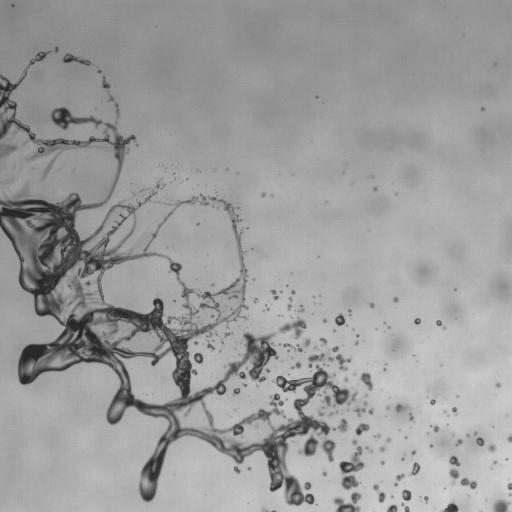droplet: (332, 491, 361, 511), (359, 372, 373, 390), (492, 499, 511, 511), (440, 499, 458, 511), (354, 422, 369, 436), (448, 468, 459, 485), (334, 313, 348, 326), (448, 455, 460, 466), (193, 352, 203, 365), (7, 90, 18, 101), (52, 126, 63, 137), (93, 126, 104, 137), (61, 128, 72, 139), (36, 129, 47, 140), (3, 131, 14, 142), (26, 141, 37, 152), (63, 145, 74, 156), (38, 154, 49, 165), (4, 189, 15, 200), (156, 189, 167, 200), (73, 210, 84, 221), (73, 221, 84, 232), (421, 316, 432, 327), (232, 329, 243, 340), (40, 333, 51, 344), (269, 337, 280, 348), (185, 342, 196, 353), (297, 352, 308, 363), (265, 357, 276, 368), (324, 362, 335, 373), (302, 367, 313, 378), (286, 369, 297, 380), (228, 374, 239, 385), (109, 378, 120, 389), (345, 380, 356, 391), (188, 382, 199, 393), (294, 387, 305, 398), (285, 390, 296, 401), (310, 394, 321, 405), (302, 404, 313, 415), (126, 405, 137, 416), (359, 412, 370, 423), (326, 416, 337, 427), (157, 417, 168, 428), (347, 418, 358, 429), (295, 433, 306, 444), (177, 434, 188, 445), (496, 438, 507, 449), (167, 440, 178, 451), (255, 450, 266, 461), (333, 451, 344, 462), (283, 452, 294, 463), (223, 455, 234, 466), (159, 463, 170, 474), (285, 465, 296, 476), (158, 466, 169, 477), (333, 469, 344, 480), (399, 478, 410, 489), (498, 489, 509, 500), (392, 494, 403, 505), (289, 361, 301, 370), (402, 489, 411, 501), (294, 304, 305, 313), (429, 423, 439, 432), (386, 504, 398, 511), (318, 337, 327, 346), (487, 443, 496, 452), (56, 49, 65, 58), (69, 108, 78, 117), (75, 145, 84, 154), (122, 153, 131, 162), (278, 294, 287, 303), (215, 323, 224, 332), (300, 328, 309, 337), (251, 329, 260, 338), (196, 333, 205, 342), (310, 335, 319, 344), (33, 336, 42, 345), (238, 344, 247, 353), (317, 344, 326, 353), (304, 346, 313, 355), (200, 347, 209, 356), (12, 349, 21, 358), (267, 371, 276, 380), (357, 382, 366, 391), (278, 390, 287, 399), (353, 398, 362, 407), (399, 409, 408, 418), (291, 412, 300, 421), (319, 414, 328, 423), (225, 418, 234, 427), (213, 420, 222, 429), (326, 430, 335, 439), (391, 432, 400, 441), (314, 445, 323, 454), (162, 454, 171, 463), (161, 457, 170, 466), (156, 473, 165, 482), (342, 495, 351, 504), (382, 498, 391, 507), (420, 504, 431, 511), (476, 437, 484, 446), (289, 505, 300, 511), (483, 505, 494, 511), (232, 388, 240, 396), (455, 438, 463, 446), (451, 407, 458, 415), (373, 433, 381, 440), (0, 190, 5, 201), (29, 51, 36, 58), (56, 101, 63, 108), (81, 111, 88, 118), (93, 112, 100, 119), (14, 113, 21, 120), (20, 118, 27, 125), (87, 121, 94, 128), (67, 122, 74, 129), (8, 123, 15, 130), (98, 123, 105, 130), (21, 131, 28, 138), (9, 150, 16, 157), (35, 168, 42, 175), (106, 175, 113, 182), (80, 197, 87, 204), (104, 201, 111, 208), (78, 233, 85, 240), (26, 292, 33, 299), (291, 300, 298, 307), (256, 301, 263, 308), (239, 308, 246, 315), (44, 313, 51, 320), (299, 313, 306, 320), (278, 319, 285, 326), (228, 320, 235, 327), (287, 328, 294, 335), (296, 337, 303, 344), (289, 338, 296, 345), (186, 339, 193, 346), (326, 341, 333, 348), (187, 354, 194, 361), (234, 355, 241, 362), (331, 359, 338, 366), (91, 361, 98, 368), (190, 361, 197, 368), (39, 371, 46, 378), (217, 372, 224, 379), (12, 375, 19, 382), (244, 375, 251, 382), (209, 379, 216, 386), (24, 382, 31, 389), (275, 386, 282, 393), (225, 387, 232, 394), (109, 388, 116, 395), (202, 394, 209, 401), (389, 400, 396, 407), (349, 401, 356, 408), (339, 402, 346, 409), (336, 403, 343, 410), (264, 404, 271, 411), (251, 406, 258, 413), (242, 410, 249, 417), (312, 413, 319, 420), (144, 414, 151, 421), (233, 416, 240, 423), (116, 419, 123, 426), (302, 433, 309, 440), (285, 436, 292, 443), (377, 438, 384, 445), (483, 439, 490, 446), (203, 441, 210, 448), (331, 449, 338, 456), (489, 451, 496, 458), (378, 452, 385, 459), (305, 454, 312, 461), (358, 454, 365, 461), (412, 454, 419, 461), (243, 455, 250, 462), (141, 456, 148, 463), (497, 456, 504, 463), (229, 459, 236, 466), (262, 465, 269, 472), (264, 477, 271, 484), (297, 479, 304, 486), (278, 485, 285, 492), (348, 486, 355, 493), (300, 488, 307, 495), (372, 491, 379, 498), (153, 492, 160, 499), (135, 494, 142, 501), (355, 499, 362, 506), (300, 500, 307, 507), (313, 342, 319, 350), (395, 506, 404, 511), (392, 296, 399, 302), (367, 302, 374, 308), (322, 468, 327, 476), (414, 318, 420, 324), (495, 382, 501, 388), (368, 408, 374, 414), (430, 398, 435, 405), (411, 449, 416, 456), (424, 496, 429, 503), (260, 192, 266, 197), (253, 297, 258, 303), (351, 370, 356, 376), (241, 382, 247, 387), (456, 507, 463, 511), (480, 106, 485, 111), (322, 318, 327, 323), (354, 340, 359, 345), (380, 460, 385, 465), (72, 51, 77, 56), (79, 54, 84, 59), (41, 57, 46, 62), (70, 59, 75, 64), (34, 60, 39, 65), (80, 63, 85, 68), (26, 68, 31, 73), (2, 72, 7, 77), (97, 72, 102, 77), (104, 77, 109, 82), (10, 79, 15, 84), (97, 81, 102, 86), (15, 85, 20, 90), (107, 86, 112, 91), (101, 87, 106, 92), (113, 96, 118, 101), (109, 100, 114, 105), (15, 105, 20, 110), (48, 106, 53, 111), (118, 109, 123, 114), (111, 110, 116, 115), (101, 117, 106, 122), (109, 119, 114, 124), (29, 127, 34, 132), (99, 133, 104, 138), (134, 133, 139, 138), (34, 134, 39, 139), (122, 134, 127, 139), (48, 135, 53, 140), (74, 135, 79, 140), (84, 135, 89, 140), (27, 139, 32, 144), (128, 139, 133, 144), (101, 140, 106, 145), (16, 141, 21, 146), (51, 150, 56, 155), (121, 162, 126, 167), (51, 163, 56, 168), (48, 169, 53, 174), (111, 169, 116, 174), (119, 170, 124, 175), (116, 178, 121, 183), (174, 178, 179, 183), (113, 186, 118, 191), (134, 187, 139, 192), (257, 188, 262, 193), (265, 190, 270, 195), (193, 191, 198, 196), (202, 191, 207, 196), (210, 191, 215, 196), (186, 194, 191, 199), (264, 194, 269, 199), (150, 195, 155, 200), (0, 196, 5, 201), (92, 198, 97, 203), (225, 198, 230, 203), (231, 202, 236, 207), (233, 208, 238, 213), (235, 221, 240, 226), (93, 224, 98, 229), (239, 234, 244, 239), (5, 238, 10, 243), (239, 239, 244, 244), (240, 245, 245, 250), (9, 246, 14, 251), (11, 250, 16, 255), (14, 256, 19, 261), (242, 258, 247, 263), (14, 271, 19, 276), (244, 281, 249, 286), (15, 282, 20, 287), (287, 285, 292, 290), (244, 286, 249, 291), (243, 292, 248, 297), (390, 292, 395, 297), (268, 293, 273, 298), (314, 296, 319, 301), (368, 297, 373, 302), (284, 298, 289, 303), (388, 298, 393, 303), (243, 300, 248, 305), (394, 301, 399, 306), (29, 304, 34, 309), (282, 304, 287, 309), (333, 311, 338, 316), (33, 313, 38, 318), (343, 315, 348, 320), (292, 316, 297, 321), (221, 320, 226, 325), (304, 320, 309, 325), (318, 320, 323, 325), (332, 322, 337, 327), (60, 325, 65, 330), (213, 325, 218, 330), (354, 328, 359, 333), (351, 330, 356, 335), (210, 334, 215, 339), (316, 340, 321, 345), (308, 342, 313, 347), (351, 344, 356, 349), (213, 348, 218, 353), (315, 350, 320, 355), (332, 351, 337, 356), (342, 354, 347, 359), (269, 355, 274, 360), (80, 360, 85, 365), (290, 360, 295, 365), (311, 360, 316, 365), (342, 361, 347, 366), (71, 363, 76, 368), (318, 363, 323, 368), (377, 365, 382, 370), (66, 366, 71, 371), (322, 366, 327, 371), (312, 367, 317, 372), (363, 368, 368, 373), (61, 369, 66, 374), (53, 370, 58, 375), (276, 370, 281, 375), (112, 372, 117, 377), (189, 372, 194, 377), (308, 372, 313, 377), (356, 372, 361, 377), (347, 374, 352, 379), (239, 377, 244, 382), (369, 377, 374, 382), (253, 378, 258, 383), (359, 380, 364, 385), (223, 381, 228, 386), (490, 382, 495, 387), (338, 384, 343, 389), (239, 385, 244, 390), (354, 394, 359, 399), (428, 394, 433, 399), (364, 396, 369, 401), (266, 397, 271, 402), (308, 397, 313, 402), (425, 398, 430, 403), (399, 399, 404, 404), (383, 400, 388, 405), (358, 403, 363, 408), (276, 405, 281, 410), (328, 406, 333, 411), (390, 406, 395, 411), (102, 408, 107, 413), (209, 409, 214, 414), (228, 409, 233, 414), (384, 409, 389, 414), (352, 411, 357, 416), (101, 413, 106, 418), (404, 414, 409, 419), (120, 415, 125, 420), (444, 417, 449, 422), (103, 419, 108, 424), (438, 425, 443, 430), (428, 427, 433, 432), (360, 430, 365, 435), (436, 430, 441, 435), (468, 430, 473, 435), (476, 432, 481, 437), (504, 432, 509, 437), (156, 433, 161, 438), (354, 434, 359, 439), (461, 435, 466, 440), (471, 435, 476, 440), (481, 435, 486, 440), (452, 437, 457, 442), (390, 438, 395, 443), (385, 442, 390, 447), (457, 443, 462, 448), (374, 446, 379, 451), (352, 447, 357, 452), (361, 448, 366, 453), (406, 449, 411, 454), (456, 456, 461, 461), (345, 457, 350, 462), (487, 460, 492, 465), (236, 463, 241, 468), (408, 463, 413, 468), (451, 463, 456, 468), (336, 467, 341, 472), (317, 469, 322, 474), (396, 469, 401, 474), (417, 469, 422, 474), (447, 475, 452, 480), (456, 476, 461, 481), (467, 476, 472, 481), (391, 477, 396, 482), (374, 479, 379, 484), (475, 479, 480, 484), (368, 482, 373, 487), (502, 483, 507, 488), (465, 484, 470, 489), (405, 485, 410, 490), (474, 485, 479, 490), (378, 487, 383, 492), (469, 488, 474, 493), (312, 493, 317, 498), (410, 493, 415, 498), (313, 497, 318, 502), (399, 497, 404, 502), (403, 500, 408, 505), (453, 500, 458, 505), (290, 503, 295, 508), (442, 503, 447, 508), (54, 46, 58, 52), (0, 105, 3, 112), (373, 186, 377, 191), (332, 328, 337, 332), (193, 341, 198, 345), (385, 405, 389, 410), (246, 466, 251, 470), (408, 507, 413, 511), (97, 69, 101, 73), (269, 193, 273, 197), (291, 290, 295, 294), (387, 325, 391, 329), (284, 397, 288, 401), (233, 408, 237, 412), (473, 431, 477, 435), (390, 494, 394, 498), (508, 441, 511, 446), (508, 456, 511, 461), (256, 508, 261, 511), (358, 508, 363, 511), (493, 62, 497, 65), (225, 167, 229, 170), (196, 168, 199, 172), (324, 200, 328, 203), (278, 290, 282, 293), (364, 393, 367, 397), (228, 415, 232, 418), (466, 433, 469, 437), (429, 444, 433, 447), (278, 314, 283, 316), (10, 0, 15, 2), (0, 203, 2, 208), (0, 227, 2, 232), (11, 4, 14, 7), (315, 95, 318, 98), (196, 222, 199, 225), (252, 278, 255, 281), (211, 283, 214, 286), (454, 288, 457, 291), (312, 295, 315, 298), (318, 294, 321, 297), (211, 314, 214, 317), (383, 321, 386, 324), (356, 334, 359, 337), (440, 363, 443, 366), (256, 384, 259, 387), (456, 395, 459, 398), (397, 428, 400, 431), (404, 436, 407, 439), (505, 457, 508, 460), (14, 3, 17, 6), (8, 4, 11, 7), (51, 47, 54, 50), (36, 49, 39, 52), (43, 49, 46, 52), (26, 60, 29, 63), (90, 60, 93, 63), (29, 64, 32, 67), (87, 64, 90, 67), (98, 66, 101, 69), (95, 67, 98, 70), (21, 79, 24, 82), (313, 92, 316, 95), (317, 93, 320, 96), (106, 95, 109, 98), (315, 98, 318, 101), (481, 103, 484, 106), (117, 105, 120, 108), (113, 106, 116, 109), (477, 106, 480, 109), (483, 109, 486, 112), (163, 163, 166, 166), (172, 168, 175, 171), (169, 171, 172, 174), (170, 176, 173, 179), (182, 176, 185, 179), (178, 178, 181, 181), (183, 179, 186, 182), (186, 179, 189, 182), (171, 180, 174, 183), (372, 183, 375, 186), (159, 184, 162, 187), (141, 185, 144, 188), (163, 185, 166, 188), (149, 186, 152, 189), (377, 186, 380, 189), (374, 190, 377, 193), (129, 192, 132, 195), (216, 196, 219, 199), (165, 200, 168, 203), (171, 200, 174, 203), (248, 227, 251, 230), (242, 228, 245, 231), (250, 244, 253, 247), (251, 249, 254, 252), (244, 265, 247, 268), (285, 280, 288, 283), (282, 283, 285, 286), (453, 284, 456, 287), (271, 286, 274, 289), (450, 287, 453, 290), (294, 289, 297, 292), (454, 290, 457, 293), (275, 292, 278, 295), (289, 293, 292, 296), (254, 294, 257, 297), (315, 294, 318, 297), (397, 296, 400, 299), (257, 297, 260, 300), (276, 298, 279, 301), (299, 301, 302, 304), (254, 302, 257, 305), (373, 303, 376, 306), (266, 304, 269, 307), (302, 304, 305, 307), (366, 304, 369, 307), (263, 306, 266, 309), (290, 306, 293, 309), (369, 307, 372, 310), (265, 310, 268, 313), (278, 311, 281, 314), (350, 311, 353, 314), (235, 316, 238, 319), (438, 317, 441, 320), (383, 318, 386, 321), (411, 319, 414, 322), (385, 322, 388, 325), (433, 322, 436, 325), (441, 322, 444, 325), (341, 323, 344, 326), (415, 323, 418, 326), (305, 324, 308, 327), (375, 324, 378, 327), (436, 325, 439, 328), (385, 328, 388, 331), (225, 329, 228, 332), (221, 333, 224, 336), (226, 335, 229, 338), (323, 335, 326, 338), (206, 336, 209, 339), (355, 337, 358, 340), (286, 340, 289, 343), (204, 341, 207, 344), (210, 342, 213, 345), (332, 344, 335, 347), (220, 348, 223, 351), (289, 349, 292, 352), (295, 350, 298, 353), (411, 350, 414, 353), (410, 355, 413, 358), (414, 355, 417, 358), (350, 358, 353, 361), (383, 364, 386, 367), (382, 371, 385, 374), (261, 380, 264, 383), (499, 381, 502, 384), (498, 386, 501, 389), (455, 391, 458, 394), (221, 393, 224, 396), (235, 393, 238, 396), (432, 396, 435, 399), (433, 402, 436, 405), (428, 403, 431, 406), (451, 404, 454, 407), (455, 405, 458, 408), (456, 408, 459, 411), (365, 409, 368, 412), (411, 412, 414, 415), (442, 413, 445, 416), (344, 417, 347, 420), (412, 417, 415, 420), (409, 420, 412, 423), (447, 424, 450, 427), (403, 432, 406, 435), (406, 434, 409, 437), (401, 436, 404, 439), (406, 437, 409, 440), (427, 441, 430, 444), (431, 441, 434, 444), (426, 444, 429, 447), (432, 444, 435, 447), (476, 444, 479, 447), (429, 447, 432, 450), (400, 453, 403, 456), (504, 454, 507, 457), (447, 456, 450, 459), (397, 457, 400, 460), (383, 459, 386, 462), (503, 459, 506, 462), (377, 460, 380, 463), (416, 460, 419, 463), (495, 462, 498, 465), (378, 463, 381, 466), (381, 464, 384, 467), (491, 464, 494, 467), (250, 466, 253, 469), (230, 467, 233, 470), (248, 469, 251, 472), (232, 470, 235, 473), (326, 471, 329, 474), (410, 474, 413, 477), (323, 475, 326, 478), (440, 487, 443, 490), (420, 496, 423, 499), (422, 499, 425, 502), (424, 503, 427, 506), (271, 507, 274, 510), (236, 172, 239, 174), (186, 177, 188, 180), (395, 192, 397, 195), (246, 227, 249, 229), (286, 284, 288, 287), (173, 299, 175, 302), (412, 354, 415, 356), (290, 357, 293, 359), (426, 395, 428, 398), (446, 423, 448, 426), (492, 425, 494, 428), (426, 432, 429, 434), (291, 440, 294, 442), (443, 487, 446, 489), (467, 495, 470, 497), (509, 479, 511, 482), (173, 172, 175, 174), (173, 178, 175, 180), (251, 248, 253, 250), (317, 255, 319, 257), (352, 328, 354, 330), (375, 328, 377, 330), (416, 360, 418, 362), (176, 166, 177, 168), (170, 181, 171, 183), (314, 302, 315, 304), (319, 303, 321, 304), (202, 343, 204, 344), (419, 496, 421, 497), (178, 177, 179, 178), (145, 394, 146, 395)
ligament: (339, 438, 364, 490), (307, 346, 351, 371), (102, 76, 119, 118), (62, 53, 92, 65), (372, 483, 385, 503), (460, 477, 477, 489), (379, 437, 391, 452), (408, 461, 420, 476), (394, 472, 405, 486), (395, 403, 411, 412), (269, 289, 279, 300), (436, 320, 446, 330), (286, 296, 292, 311), (400, 502, 410, 511), (408, 412, 415, 423), (490, 460, 497, 469), (261, 507, 276, 511), (365, 446, 373, 453), (507, 482, 511, 496), (506, 432, 511, 443), (382, 362, 387, 372), (442, 410, 449, 417), (341, 408, 349, 413), (401, 453, 406, 461), (348, 309, 351, 316), (478, 509, 483, 511), (181, 180, 183, 183), (165, 247, 169, 248), (310, 369, 311, 372), (372, 510, 375, 511)
